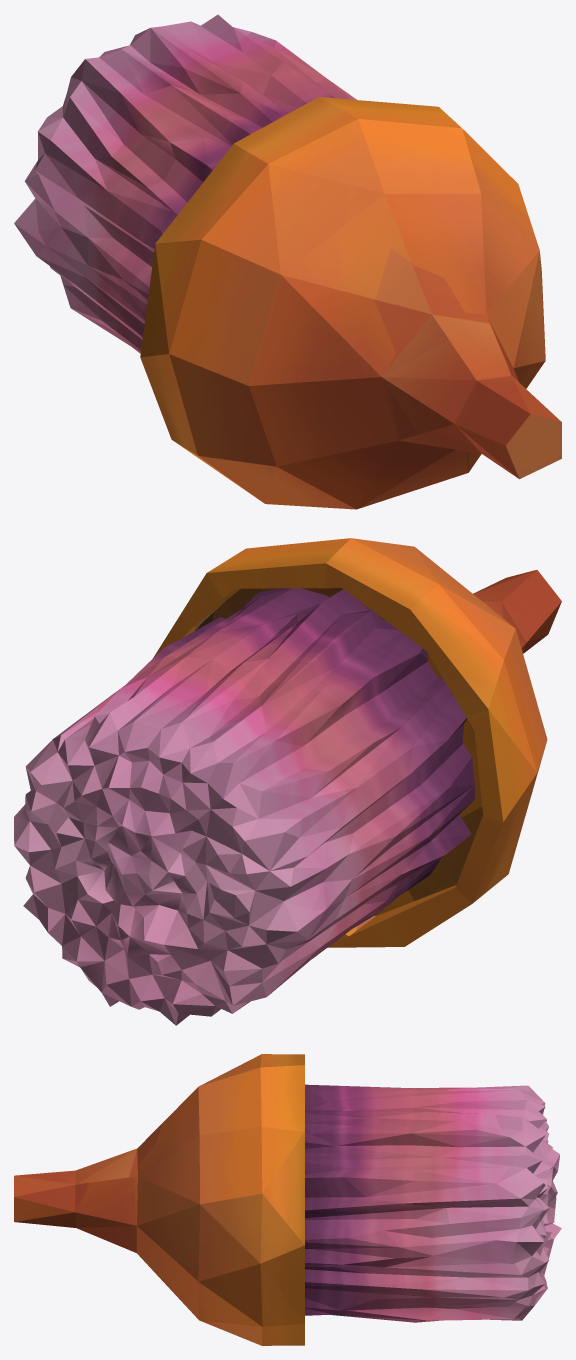
File: CoralTree7.fbx
3 renders of one model, top to bottom at view 1: azimuth 30°, elevation 25°; view 2: azimuth 150°, elevation 25°; view 3: azimuth 270°, elevation 25°, orthographic. The views are drawn at different scales.
Visible parts, largest first — view 1: Cylinder.001; view 2: Cylinder.001; view 3: Cylinder.001.
Boxes of the visible parts, box(x1,y1,x2,y2) form: Cylinder.001: box(14, 14, 561, 509); Cylinder.001: box(14, 538, 561, 1025); Cylinder.001: box(14, 1054, 561, 1345).
Bounding box in the file's own units: 4802 × 4796 × 8930.
2 materials, 2 textured.
